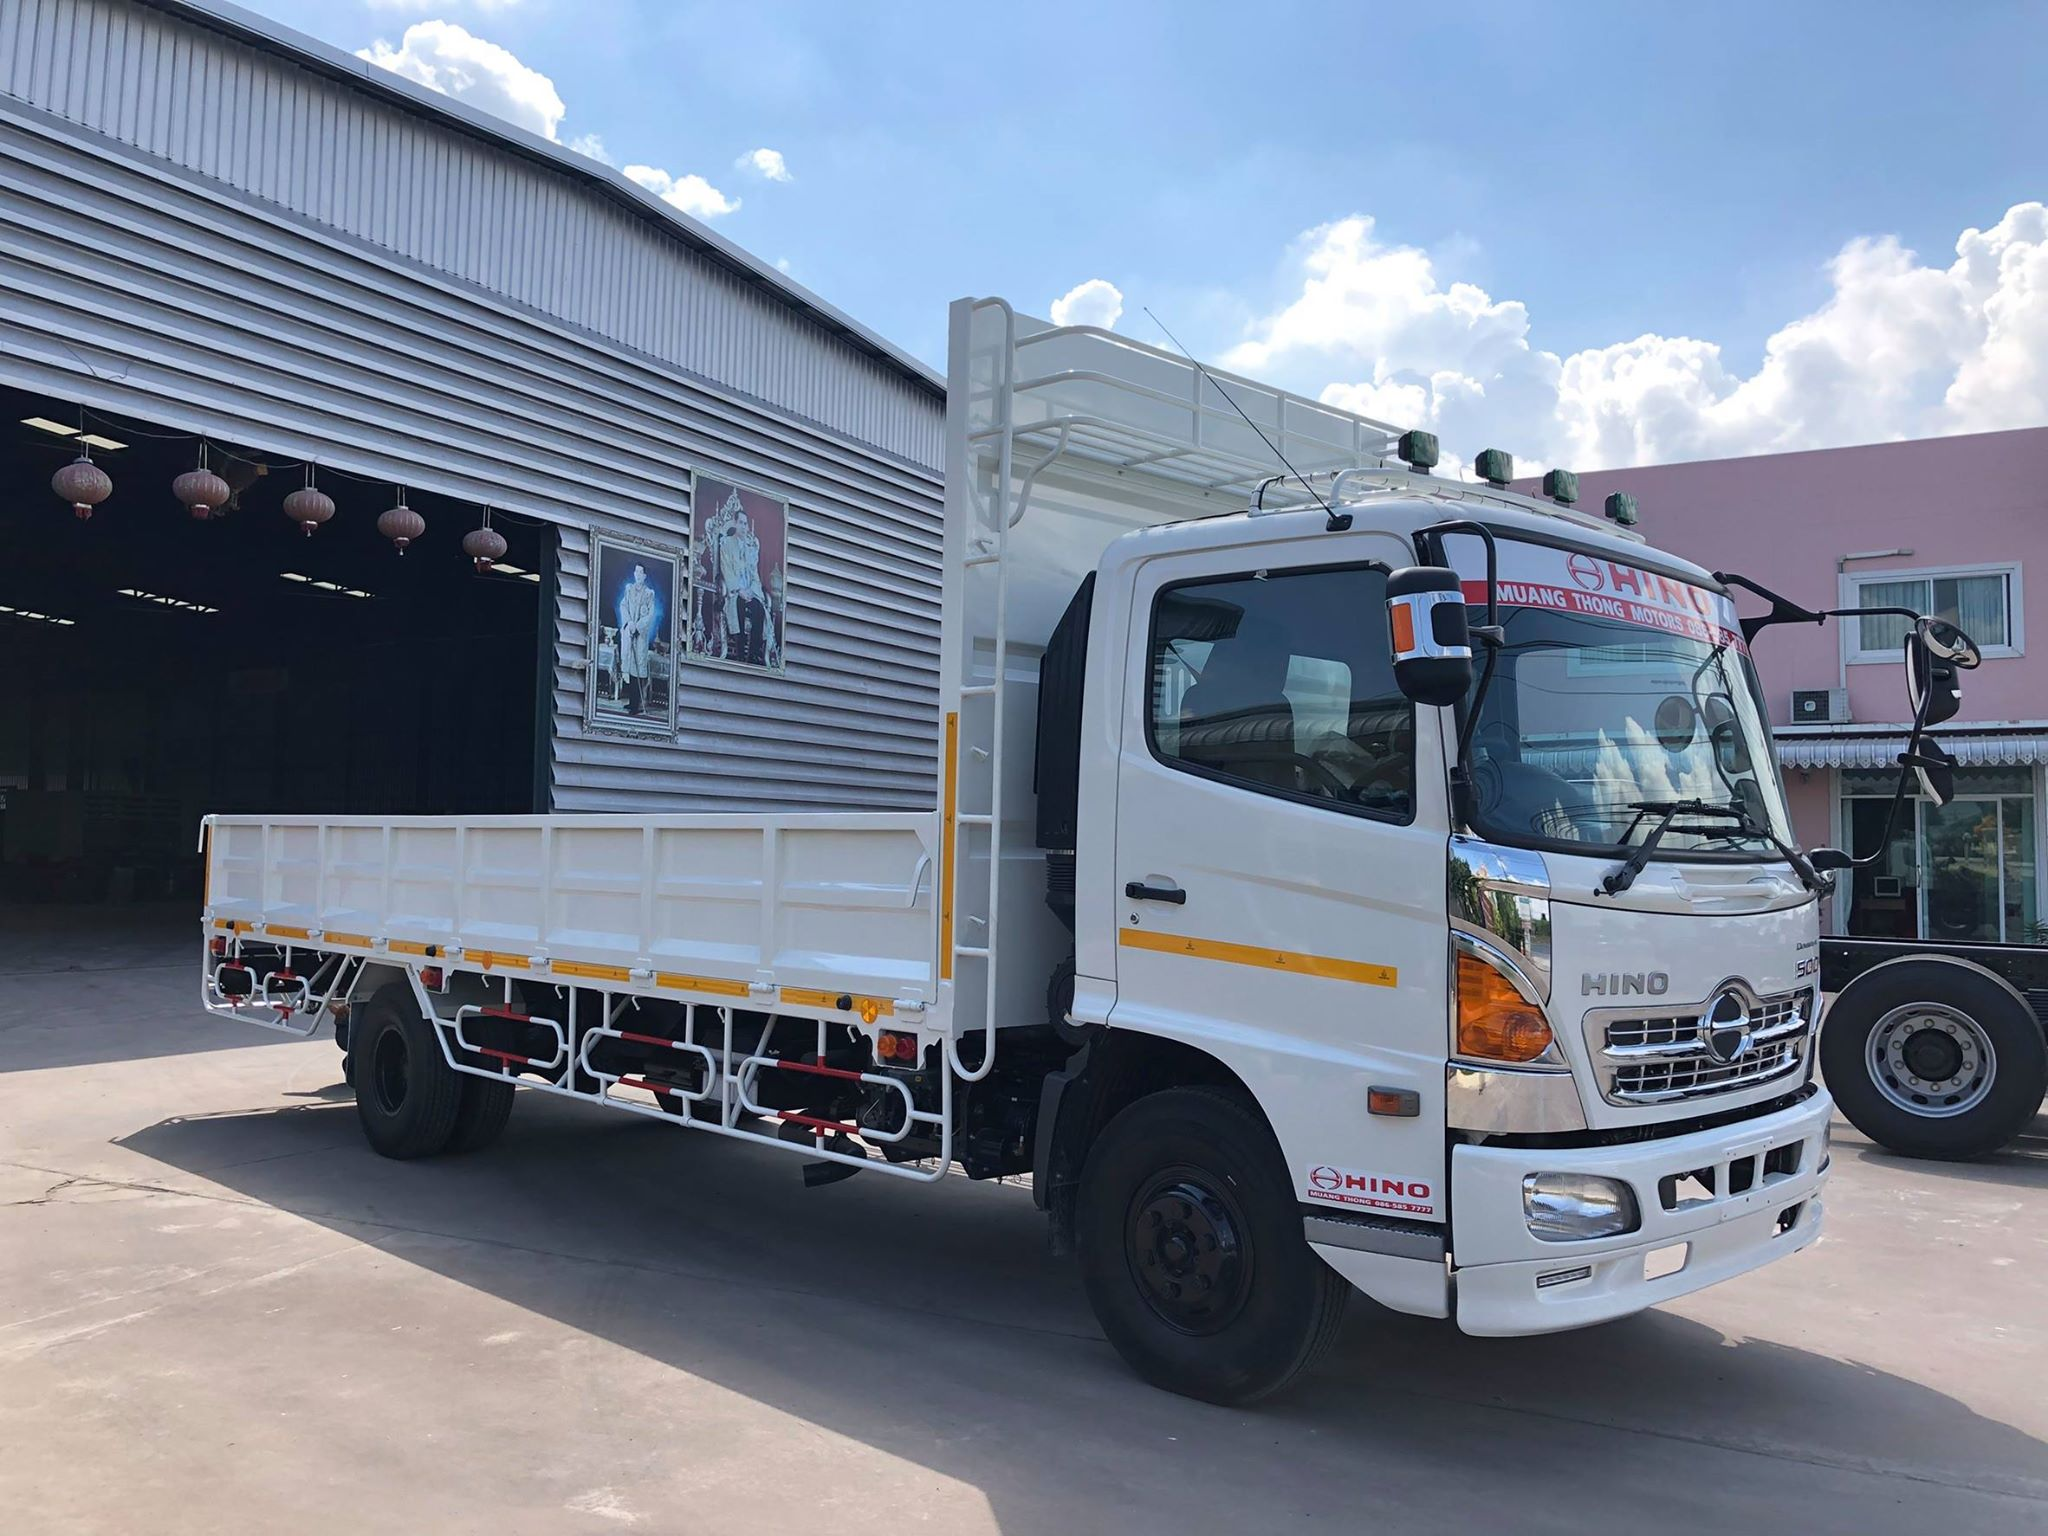truck: (1039, 478, 1843, 1418)
